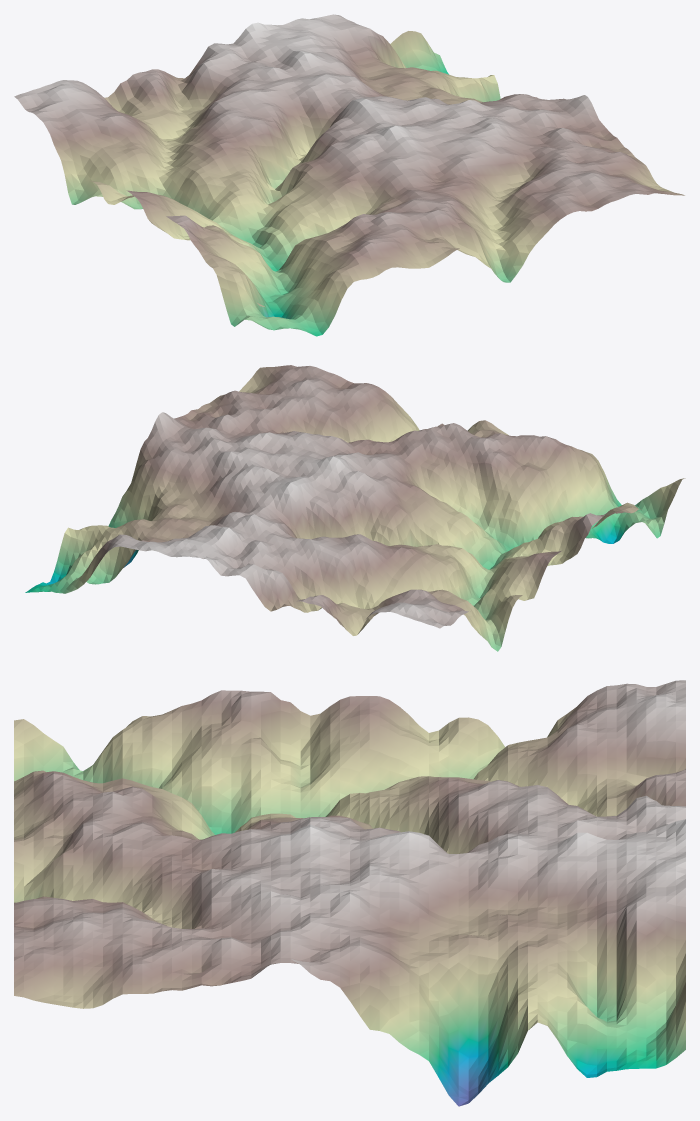
File: 005293_terrain_only.glb
3 views of the same model, one above another, from view 1: azimuth 30°, elevation 25°; view 2: azimuth 150°, elevation 25°; view 3: azimuth 270°, elevation 25° (orthographic). The views are drawn at different scales.
Parts seen in each view (by area): view 1: terrain; view 2: terrain; view 3: terrain.
Boxes of the visible parts, <box> form: terrain: <box>14,14,684,336</box>; terrain: <box>25,365,685,651</box>; terrain: <box>14,680,685,1106</box>.
Size of the model in its own units: 0.0183 by 0.00489 by 0.0183.
